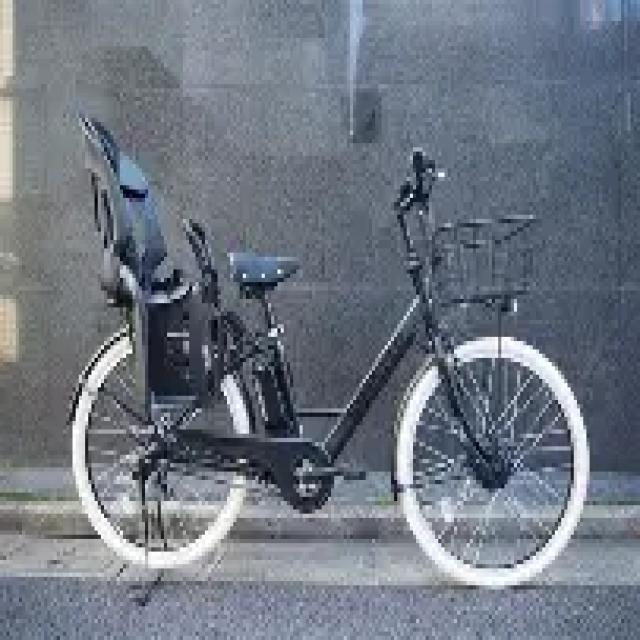basket: (423, 216, 538, 306)
battery: (244, 356, 300, 441)
childseat: (78, 108, 244, 439)
